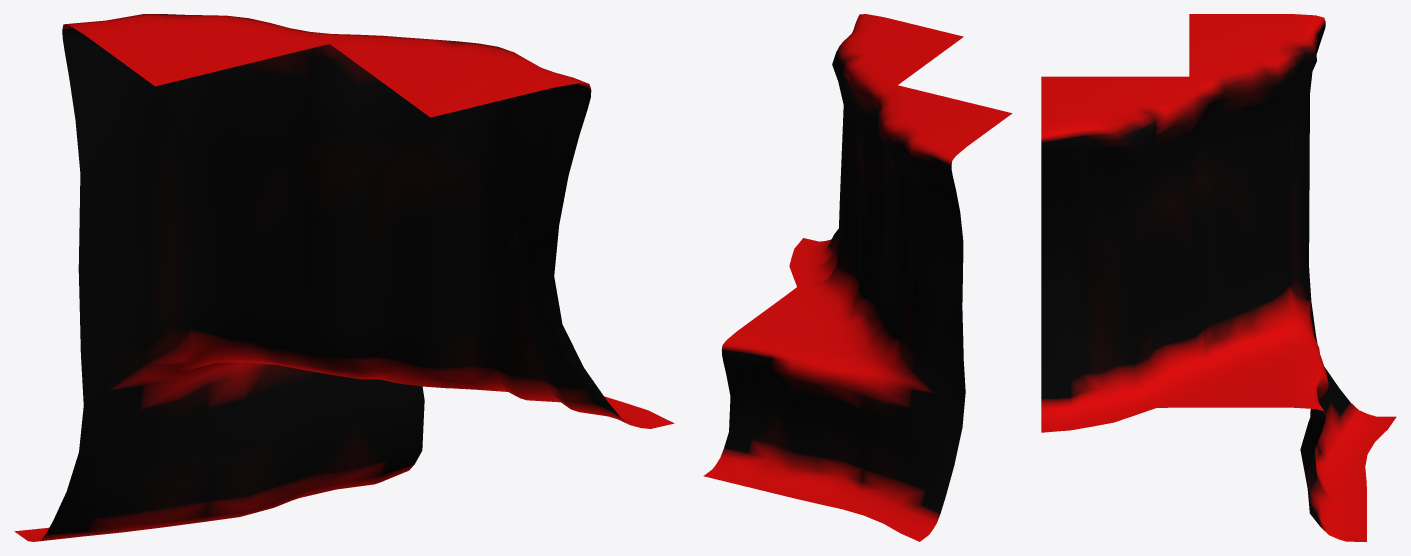
Rendered from Cliff 1x3x2 Background.fbx.
3 views of the same model, side by side, from view 1: azimuth 30°, elevation 25°; view 2: azimuth 150°, elevation 25°; view 3: azimuth 270°, elevation 25° (orthographic). The views are drawn at different scales.
Visible parts, largest first — view 1: Cliff 1x3x2 Background; view 2: Cliff 1x3x2 Background; view 3: Cliff 1x3x2 Background.
Boxes of the visible parts, x1=… form: Cliff 1x3x2 Background: x1=14, y1=14, x2=674, y2=541; Cliff 1x3x2 Background: x1=703, y1=14, x2=1012, y2=541; Cliff 1x3x2 Background: x1=1041, y1=14, x2=1396, y2=541.
Bounding box in the file's own units: 2.4 × 3 × 2.4.
